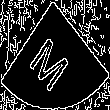M_NE: (31, 21, 79, 89)
